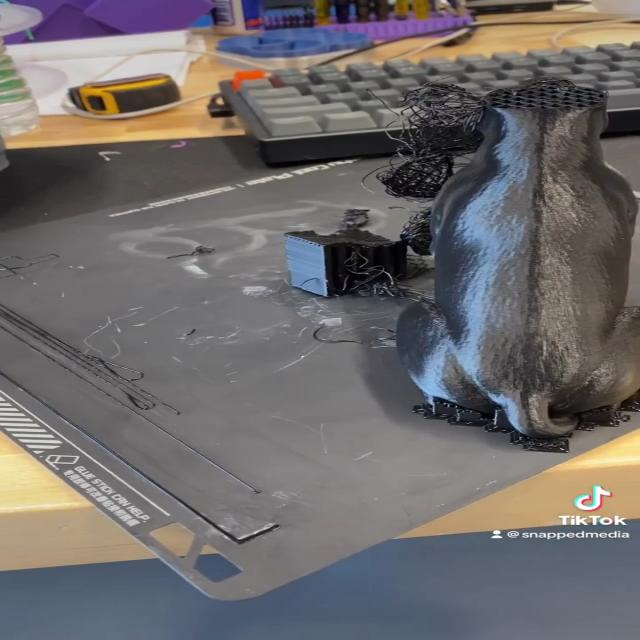spaghetti: (312, 84, 493, 327)
